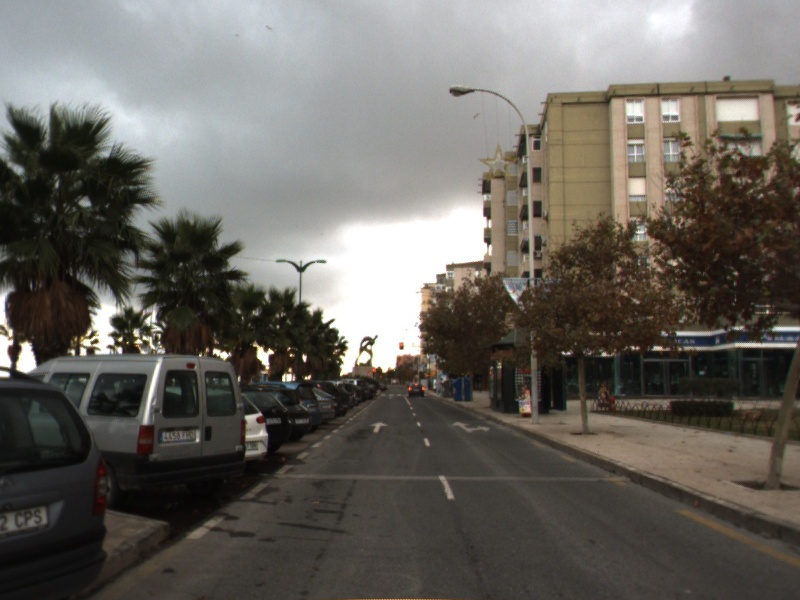STRAIGHT: (367, 420, 390, 434)
STRAIGHT_RIGHT: (450, 419, 492, 435)
